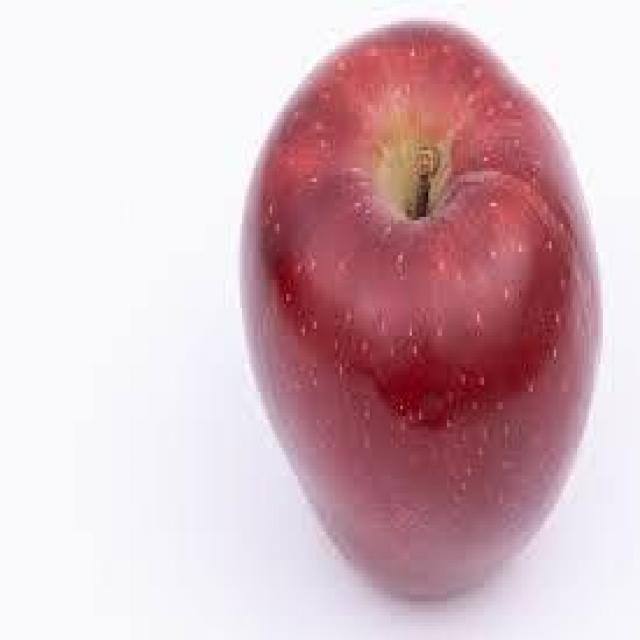apple: (240, 18, 600, 596)
